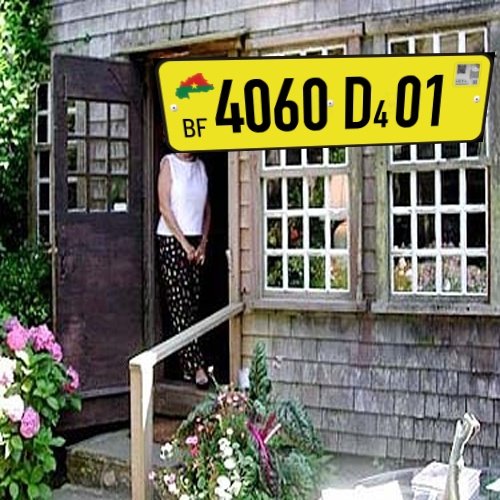plate: (132, 39, 500, 153)
